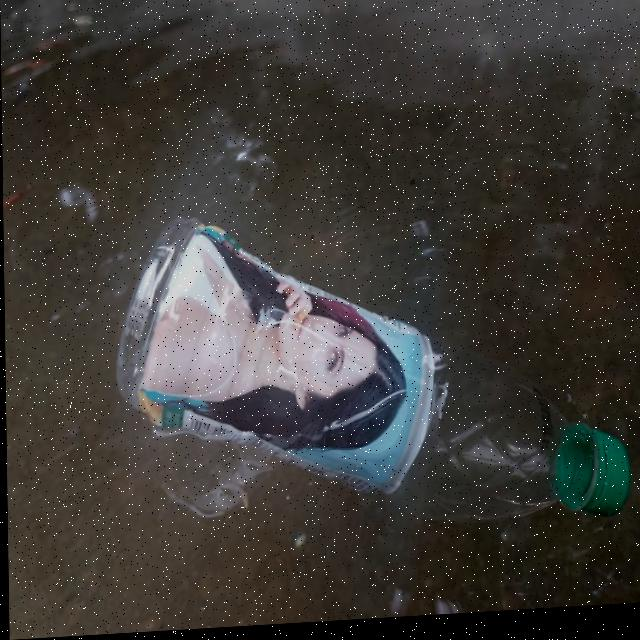paper: (112, 196, 637, 568)
